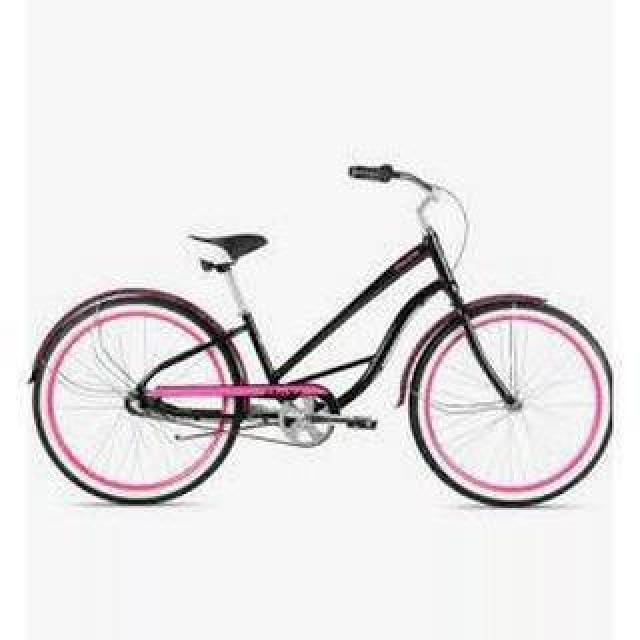Person: (30, 164, 612, 508)
